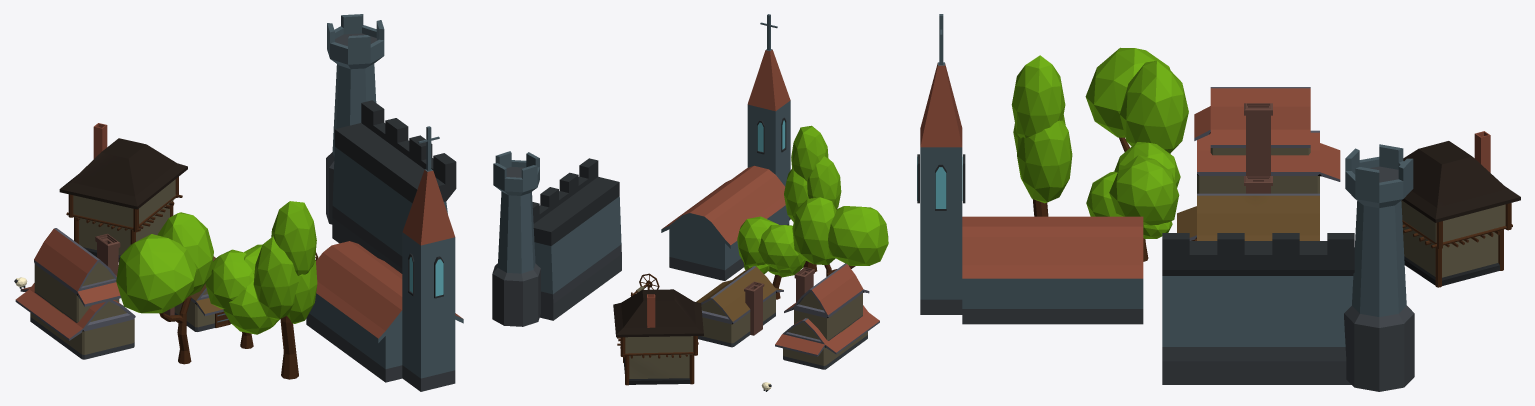
Rendered from Buildings.fbx.
The picture shows the model from 3 angles, left to right: view 1: azimuth 30°, elevation 25°; view 2: azimuth 150°, elevation 25°; view 3: azimuth 270°, elevation 25°; orthographic projection. The views are drawn at different scales.
Parts seen in each view (by area): view 1: Church, Cube, Hut3, Hut2, Tree2, Tree3, Tower, Tree1, Hut1; view 2: Church, Cube, Hut2, Tower, Hut3, Tree2, Hut1, Tree3, Tree1; view 3: Church, Cube, Tower, Hut2, Hut3, Tree2, Tree3, Hut1, Tree1.
Boxes of the visible parts, x1,y1,x2,y2 form: Church: [306, 126, 463, 391]; Cube: [332, 100, 456, 273]; Hut3: [15, 228, 135, 359]; Hut2: [59, 123, 187, 262]; Tree2: [116, 212, 213, 364]; Tree3: [253, 201, 317, 379]; Tower: [326, 14, 384, 224]; Tree1: [205, 244, 279, 348]; Hut1: [163, 256, 231, 331]; Church: [661, 14, 790, 280]; Cube: [532, 158, 621, 320]; Hut2: [613, 289, 703, 385]; Tower: [492, 151, 540, 326]; Hut3: [775, 263, 879, 369]; Tree2: [792, 197, 888, 276]; Hut1: [696, 266, 783, 347]; Tree3: [784, 125, 841, 271]; Tree1: [737, 216, 805, 299]; Church: [917, 14, 1143, 324]; Cube: [1162, 233, 1354, 384]; Tower: [1344, 144, 1414, 391]; Hut2: [1401, 131, 1520, 287]; Hut3: [1194, 87, 1340, 193]; Tree2: [1085, 47, 1188, 153]; Tree3: [1011, 55, 1072, 216]; Hut1: [1177, 176, 1319, 240]; Tree1: [1086, 142, 1180, 261].
Size of the model in its own units: 14.98 by 9.82 by 17.43.
1 material, 1 textured.
